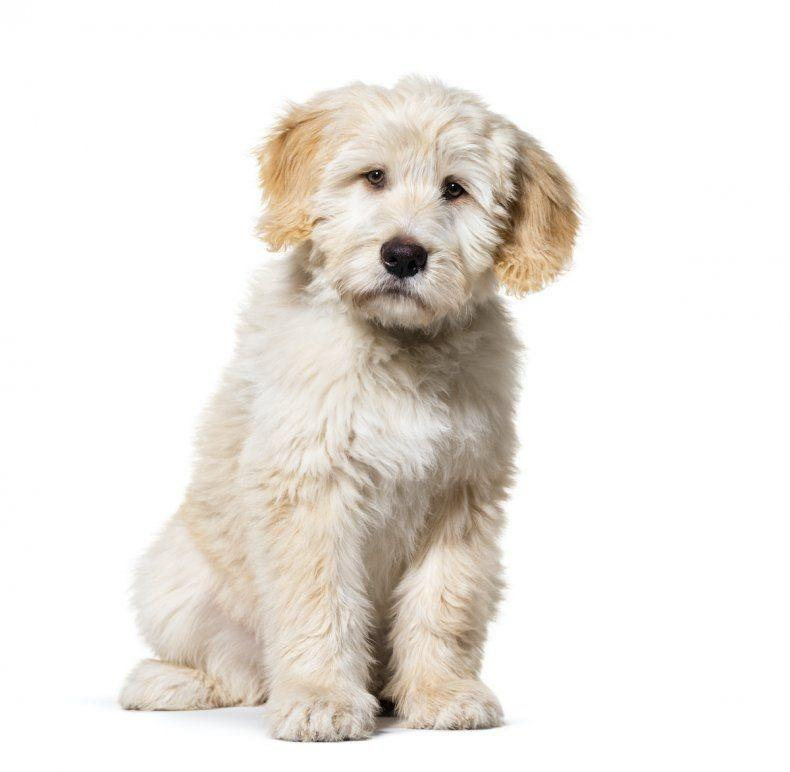puppy-dog: (117, 72, 582, 746)
